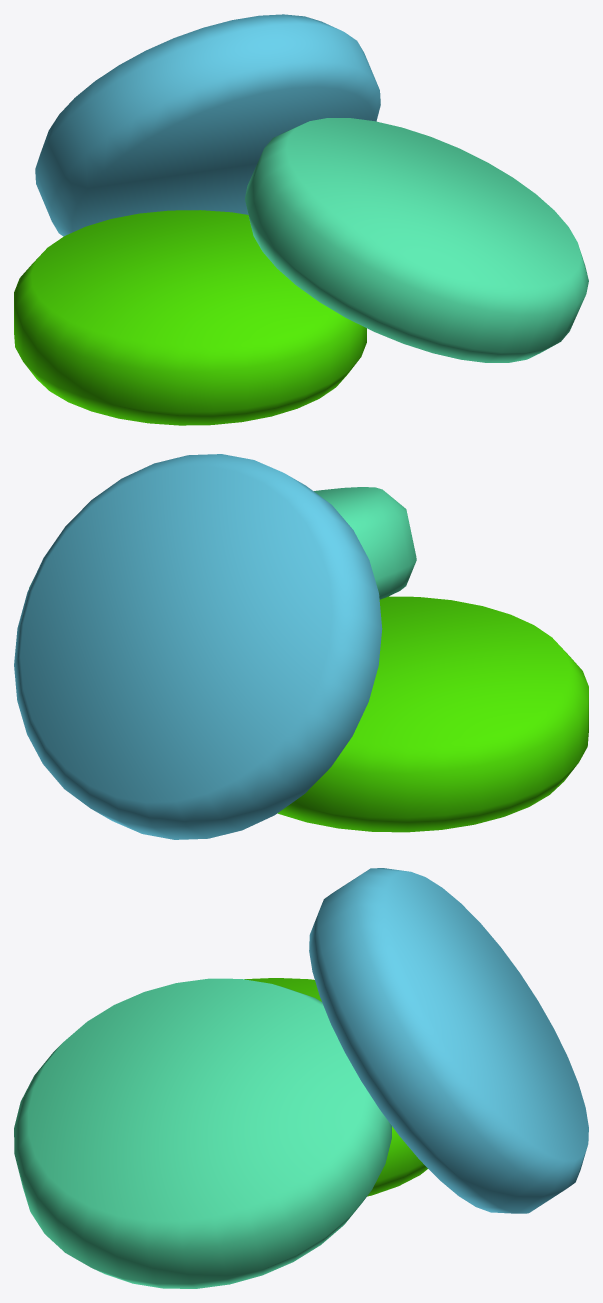
File: pill_chromatic_aberration.glb
3 renders of one model, top to bottom at view 1: azimuth 30°, elevation 25°; view 2: azimuth 150°, elevation 25°; view 3: azimuth 270°, elevation 25°, orthographic. The views are drawn at different scales.
Visible parts, largest first — view 1: Plane.001; view 2: Plane.001; view 3: Plane.001.
Part boxes in pixels (x1,y1,x2,y2): Plane.001: [14, 14, 588, 425]; Plane.001: [14, 454, 588, 839]; Plane.001: [14, 868, 588, 1288].
Bounding box in the file's own units: 2.51 × 1.37 × 2.37.
